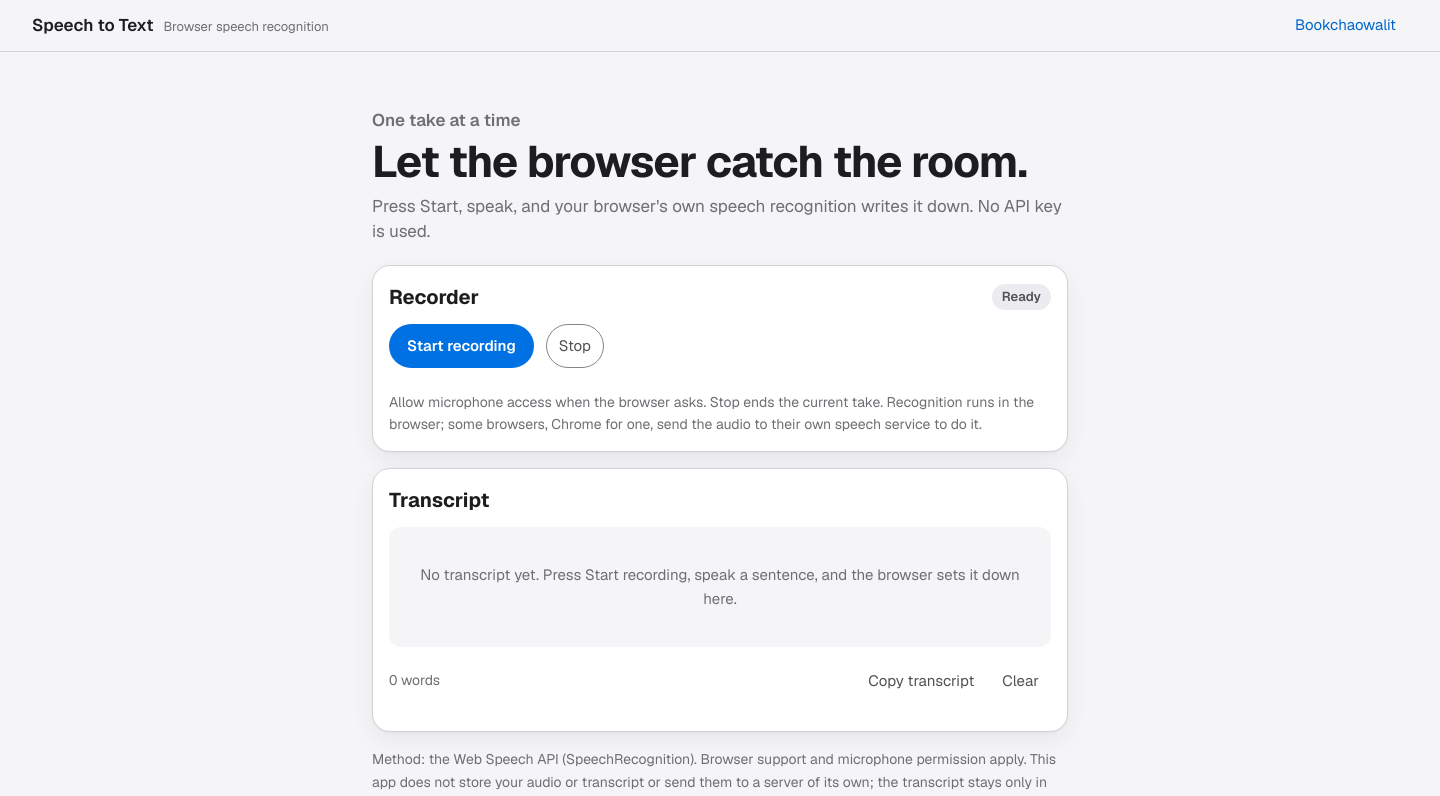
it: recorder › does not confirm a copy of text that a newer result replaced before the re-render
The width and height of the screenshot is (1440, 796).
Click the button "Start recording".
click(461, 346)  # box [389,324,534,368]
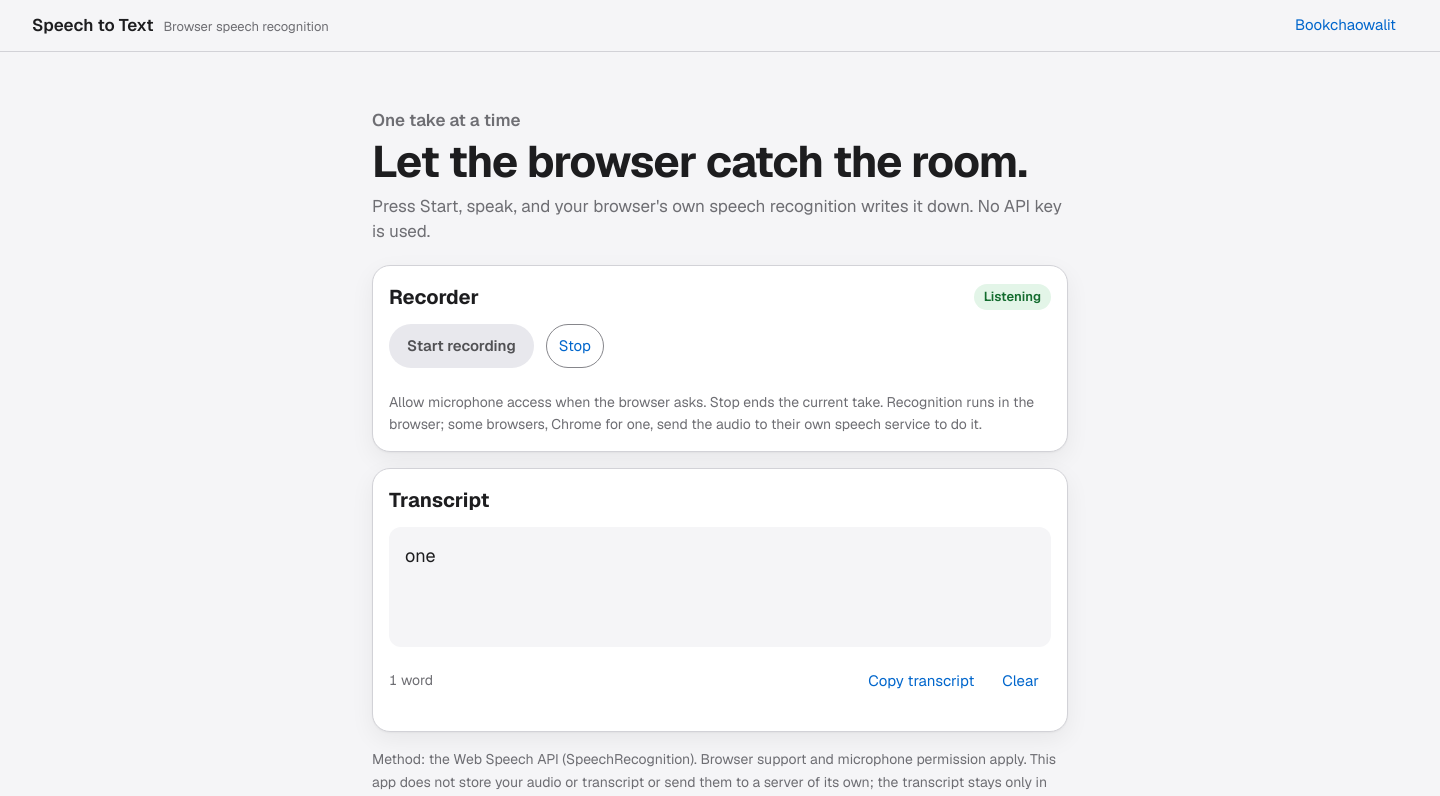
Click the button "Copy transcript".
click(921, 681)  # box [856,659,986,703]
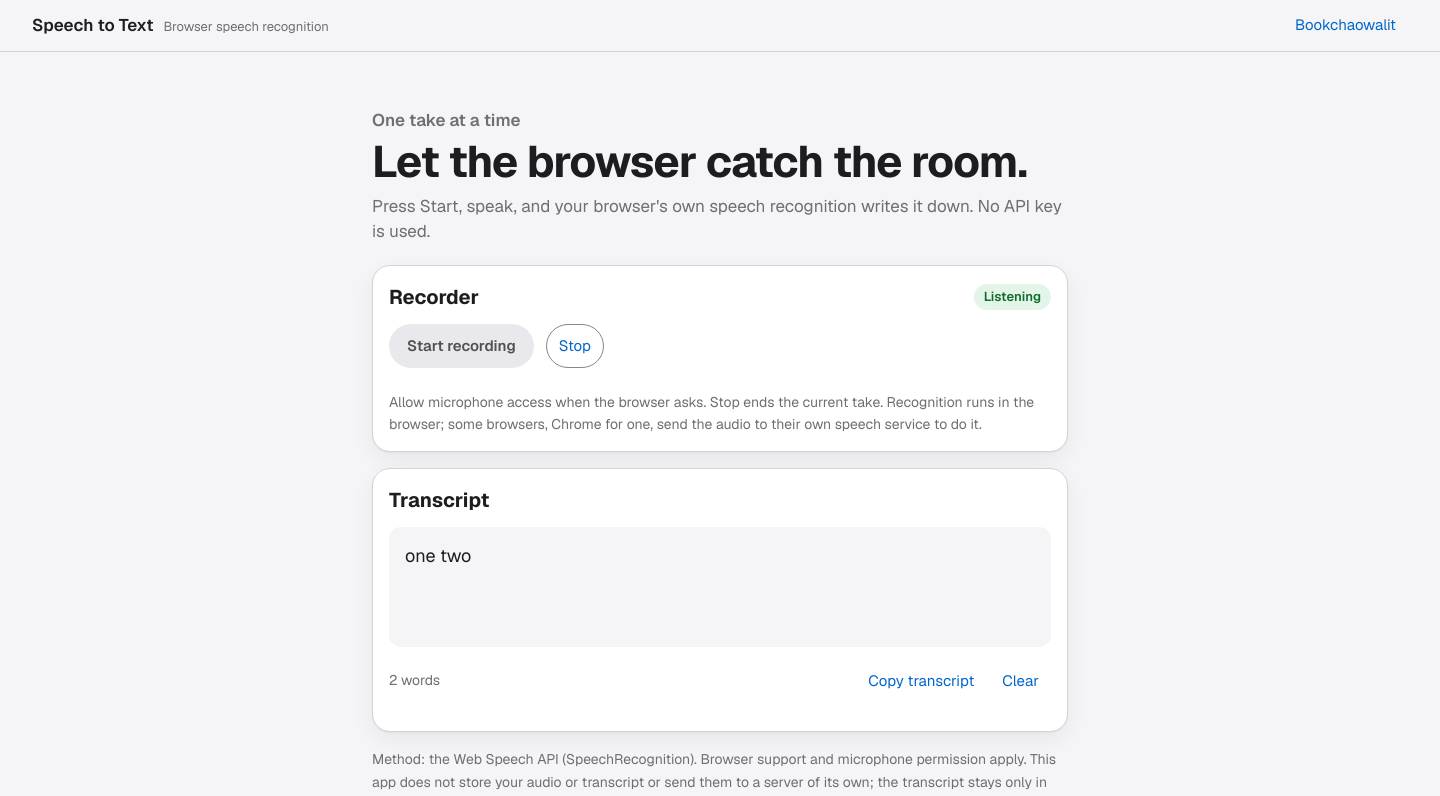
Check: the text with class "st-paper" reads "one two", box [405,544,472,567]
